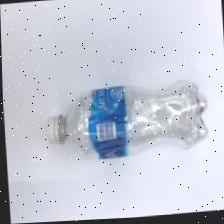plastic: (41, 78, 207, 167)
